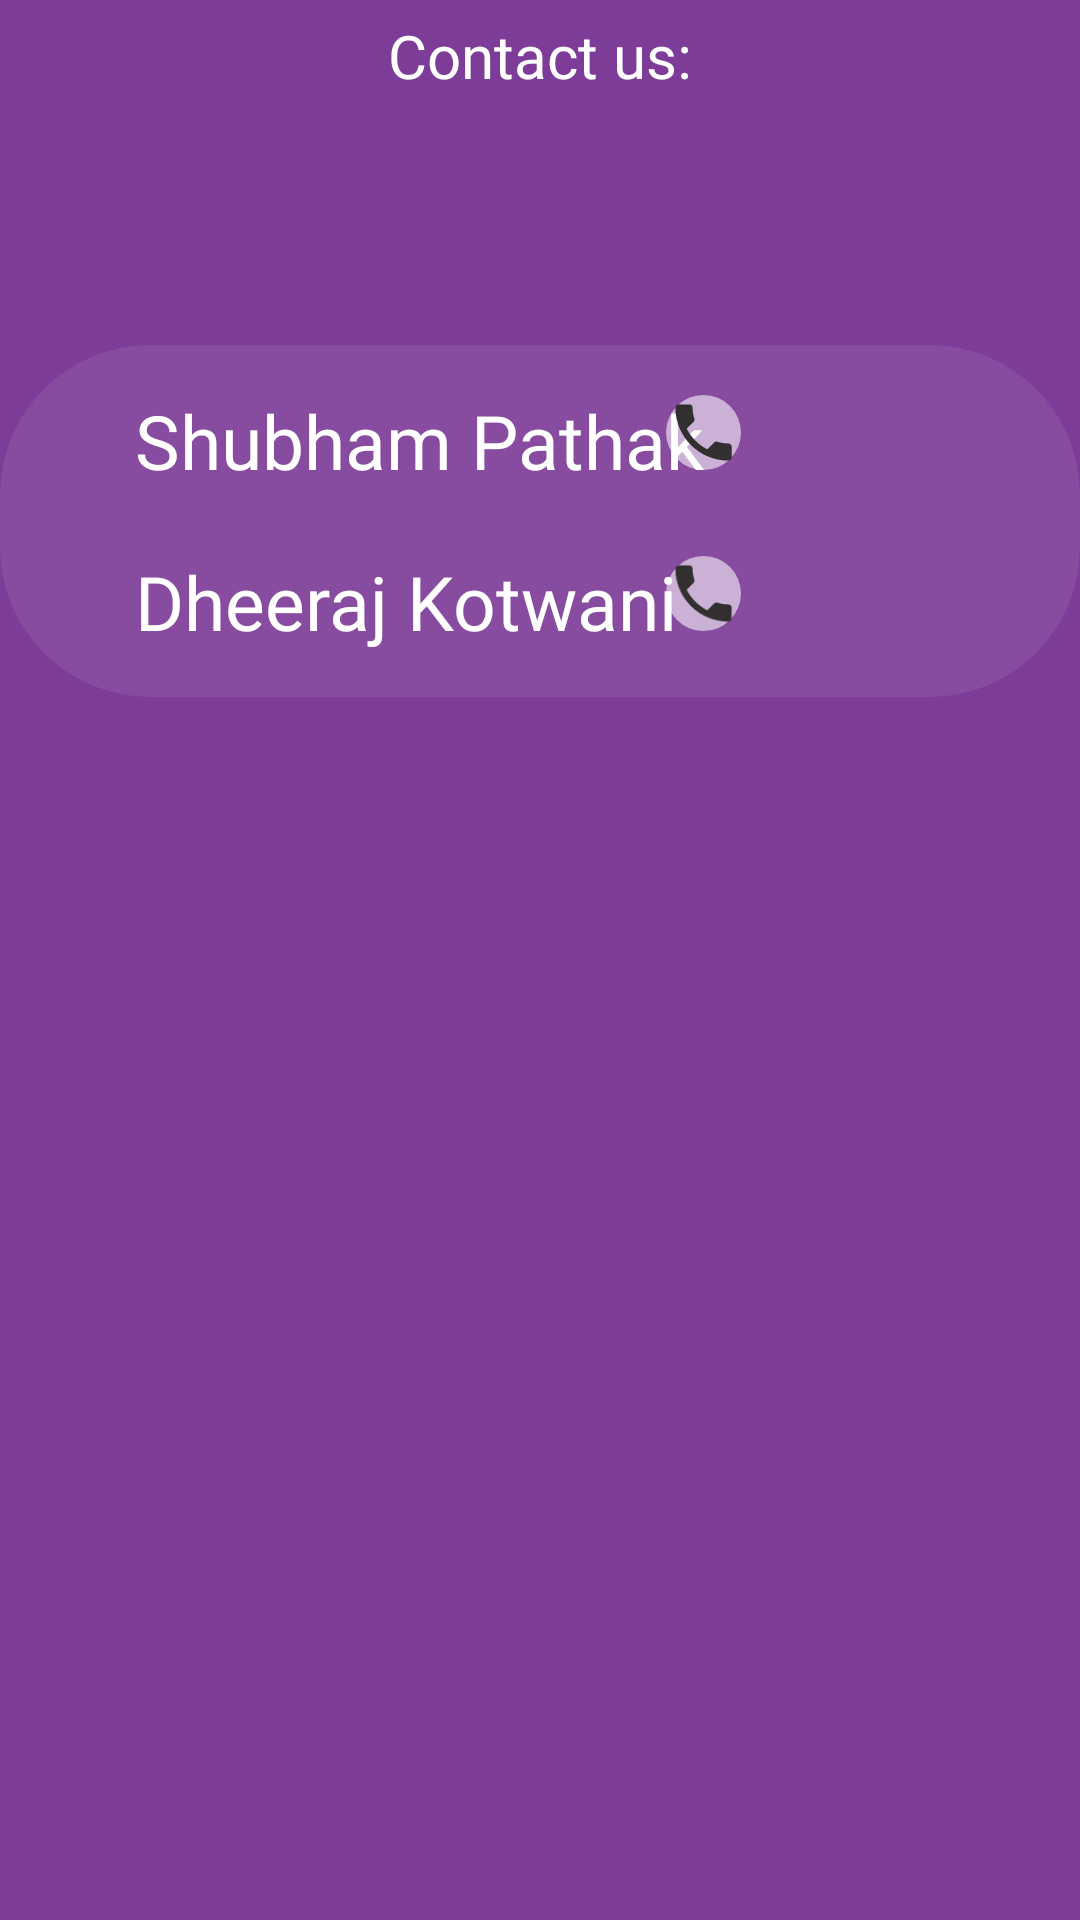

Icons on this 1080 × 1920 Android screen, each with the point to tap as point (x, y):
call: point (703, 432), point (703, 593)
